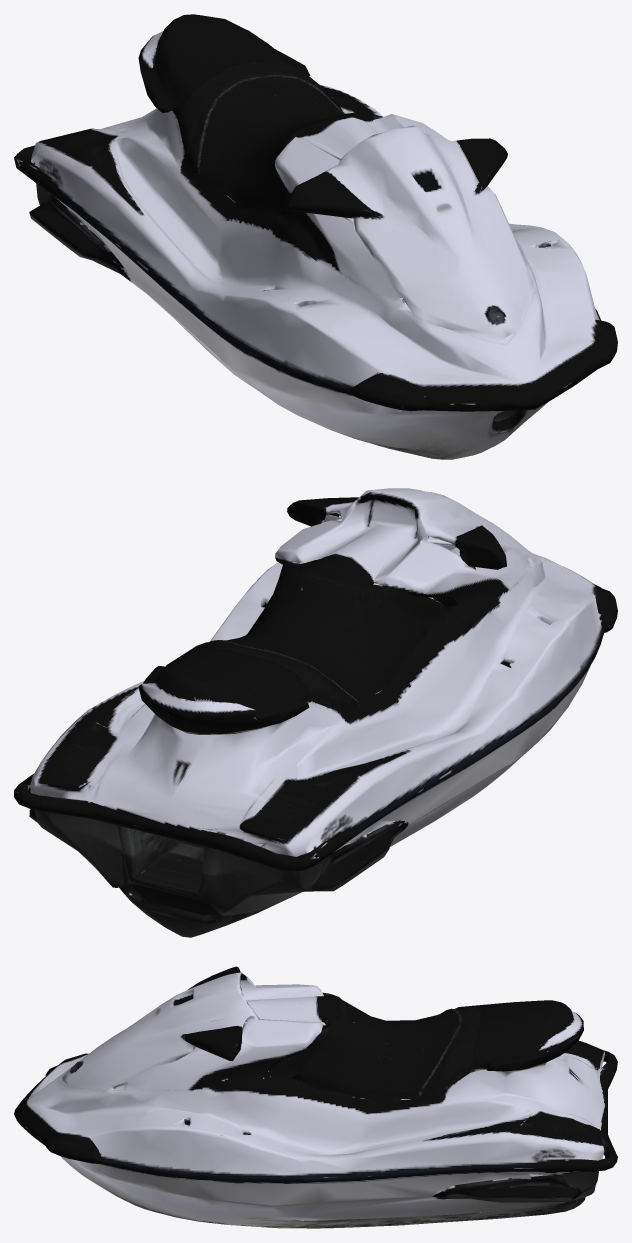
File: jetski_hull.glb
The picture shows the model from 3 angles, top to bottom: view 1: azimuth 30°, elevation 25°; view 2: azimuth 150°, elevation 25°; view 3: azimuth 270°, elevation 25°; orthographic projection. The views are drawn at different scales.
Visible parts, largest first — view 1: jetski_hull; view 2: jetski_hull; view 3: jetski_hull.
Part boxes in pixels (x1,y1,x2,y2): jetski_hull: [14, 14, 617, 459]; jetski_hull: [14, 488, 617, 937]; jetski_hull: [14, 966, 617, 1228].
Size of the model in its own units: 1.39 by 1.25 by 2.9.
1 material, 1 textured.
